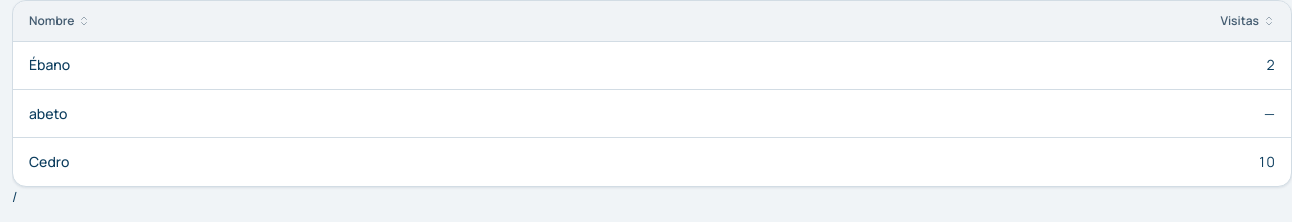
it: DataTable › links the first cell and follows the row on click
Click the text "10". click: (1266, 161)
box: [677,138,1291,186]
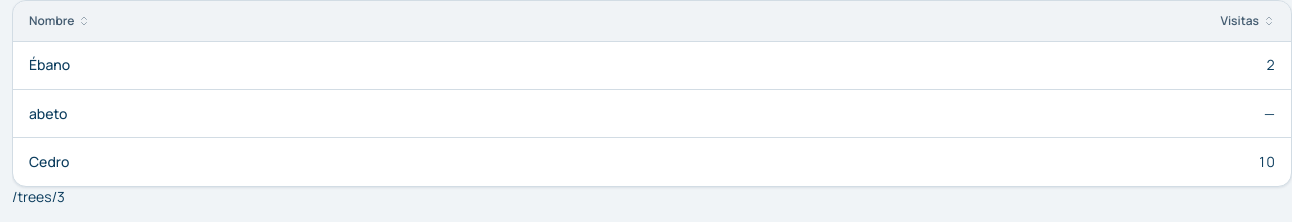
Result: the text with test id "where" reads "/trees/3" at [12,186,65,206]
